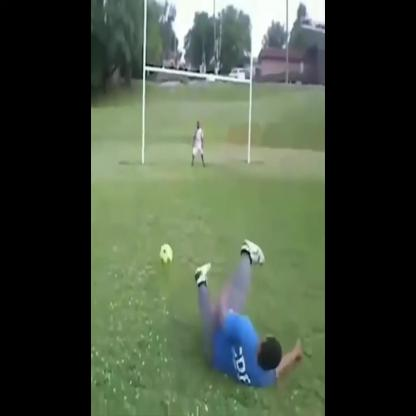Fall_Down: (193, 237, 303, 390)
